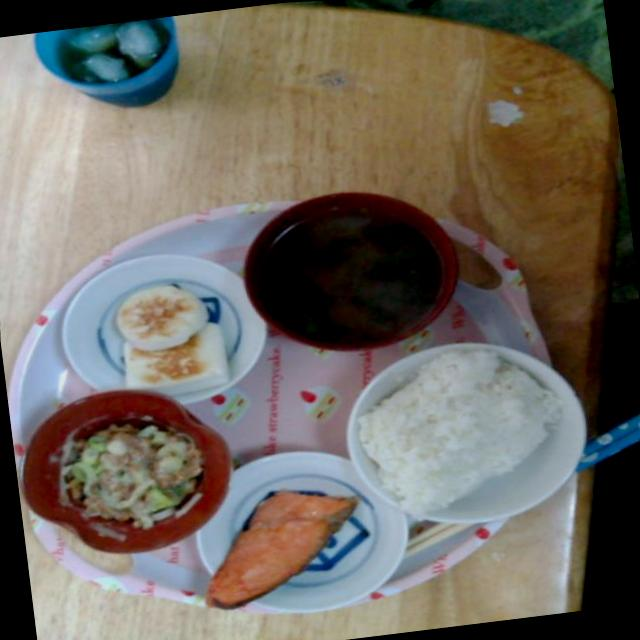Rice: (352, 314, 587, 528)
